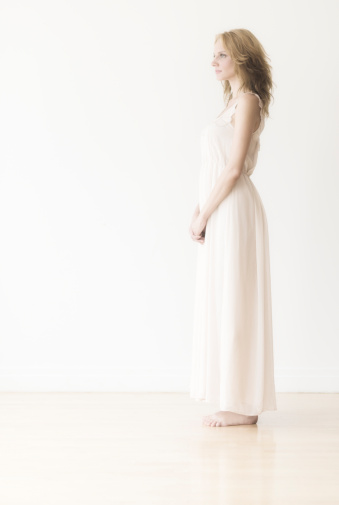em pe: (160, 14, 273, 425)
